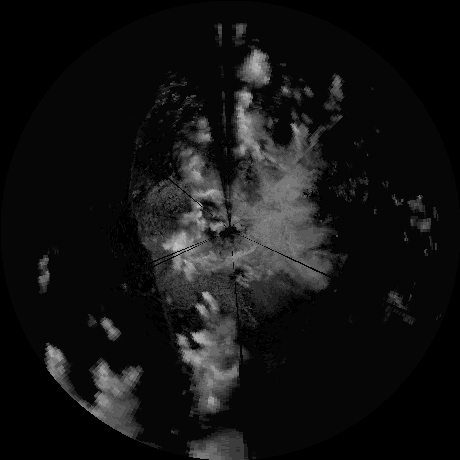frontgust: (127, 99, 161, 210)
